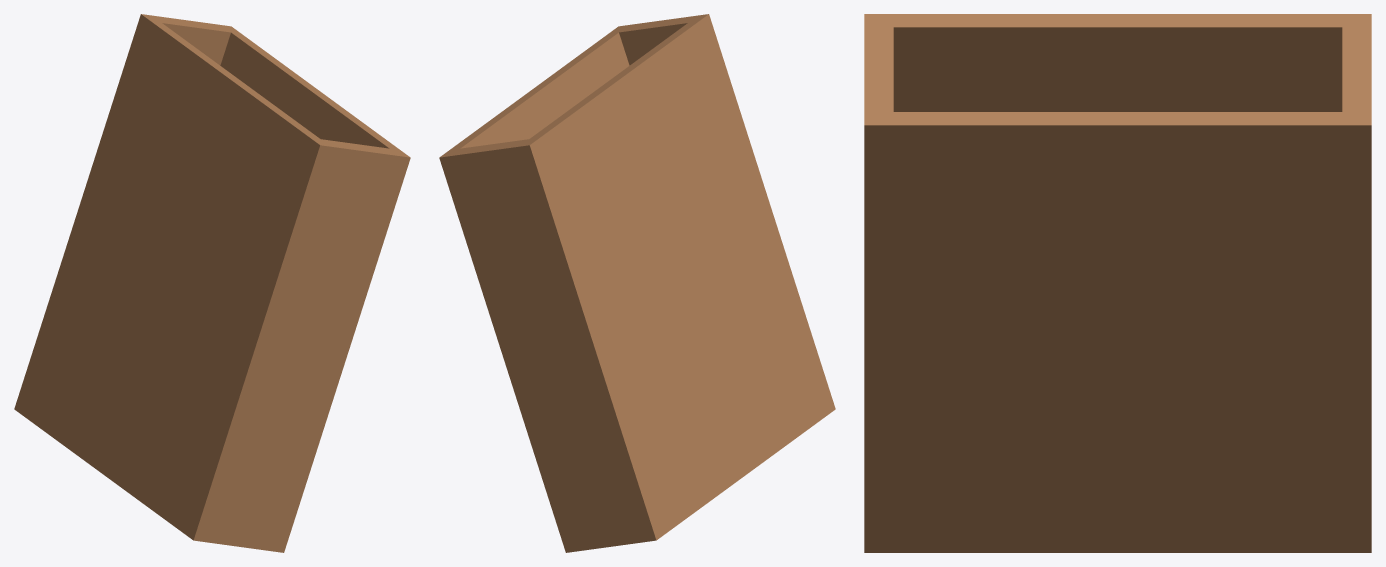
File: profile_card_holder.glb
The picture shows the model from 3 angles, left to right: view 1: azimuth 30°, elevation 25°; view 2: azimuth 150°, elevation 25°; view 3: azimuth 270°, elevation 25°; orthographic projection. The views are drawn at different scales.
Parts seen in each view (by area): view 1: Cube.001; view 2: Cube.001; view 3: Cube.001.
Part boxes in pixels (x1,y1,x2,y2): Cube.001: (14, 14, 410, 552); Cube.001: (439, 14, 835, 552); Cube.001: (864, 14, 1371, 552).
Size of the model in its own units: 0.0424 by 0.0743 by 0.0606.
